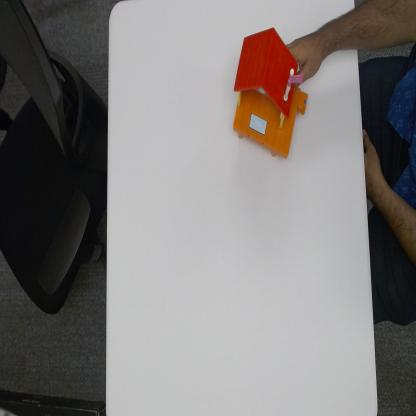Arm: (321, 11, 358, 57)
Hand: (287, 31, 328, 79)
House: (233, 25, 306, 161)
